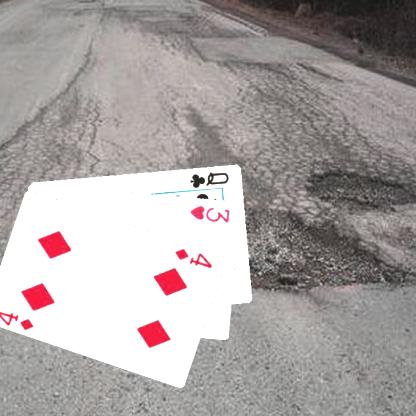3H: (187, 202, 231, 224)
4D: (173, 245, 214, 269), (0, 308, 36, 332)
QC: (187, 169, 231, 189)
